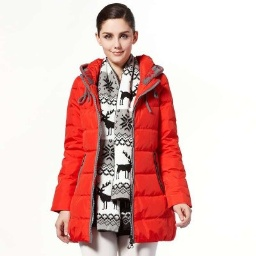face: (87, 1, 141, 66)
